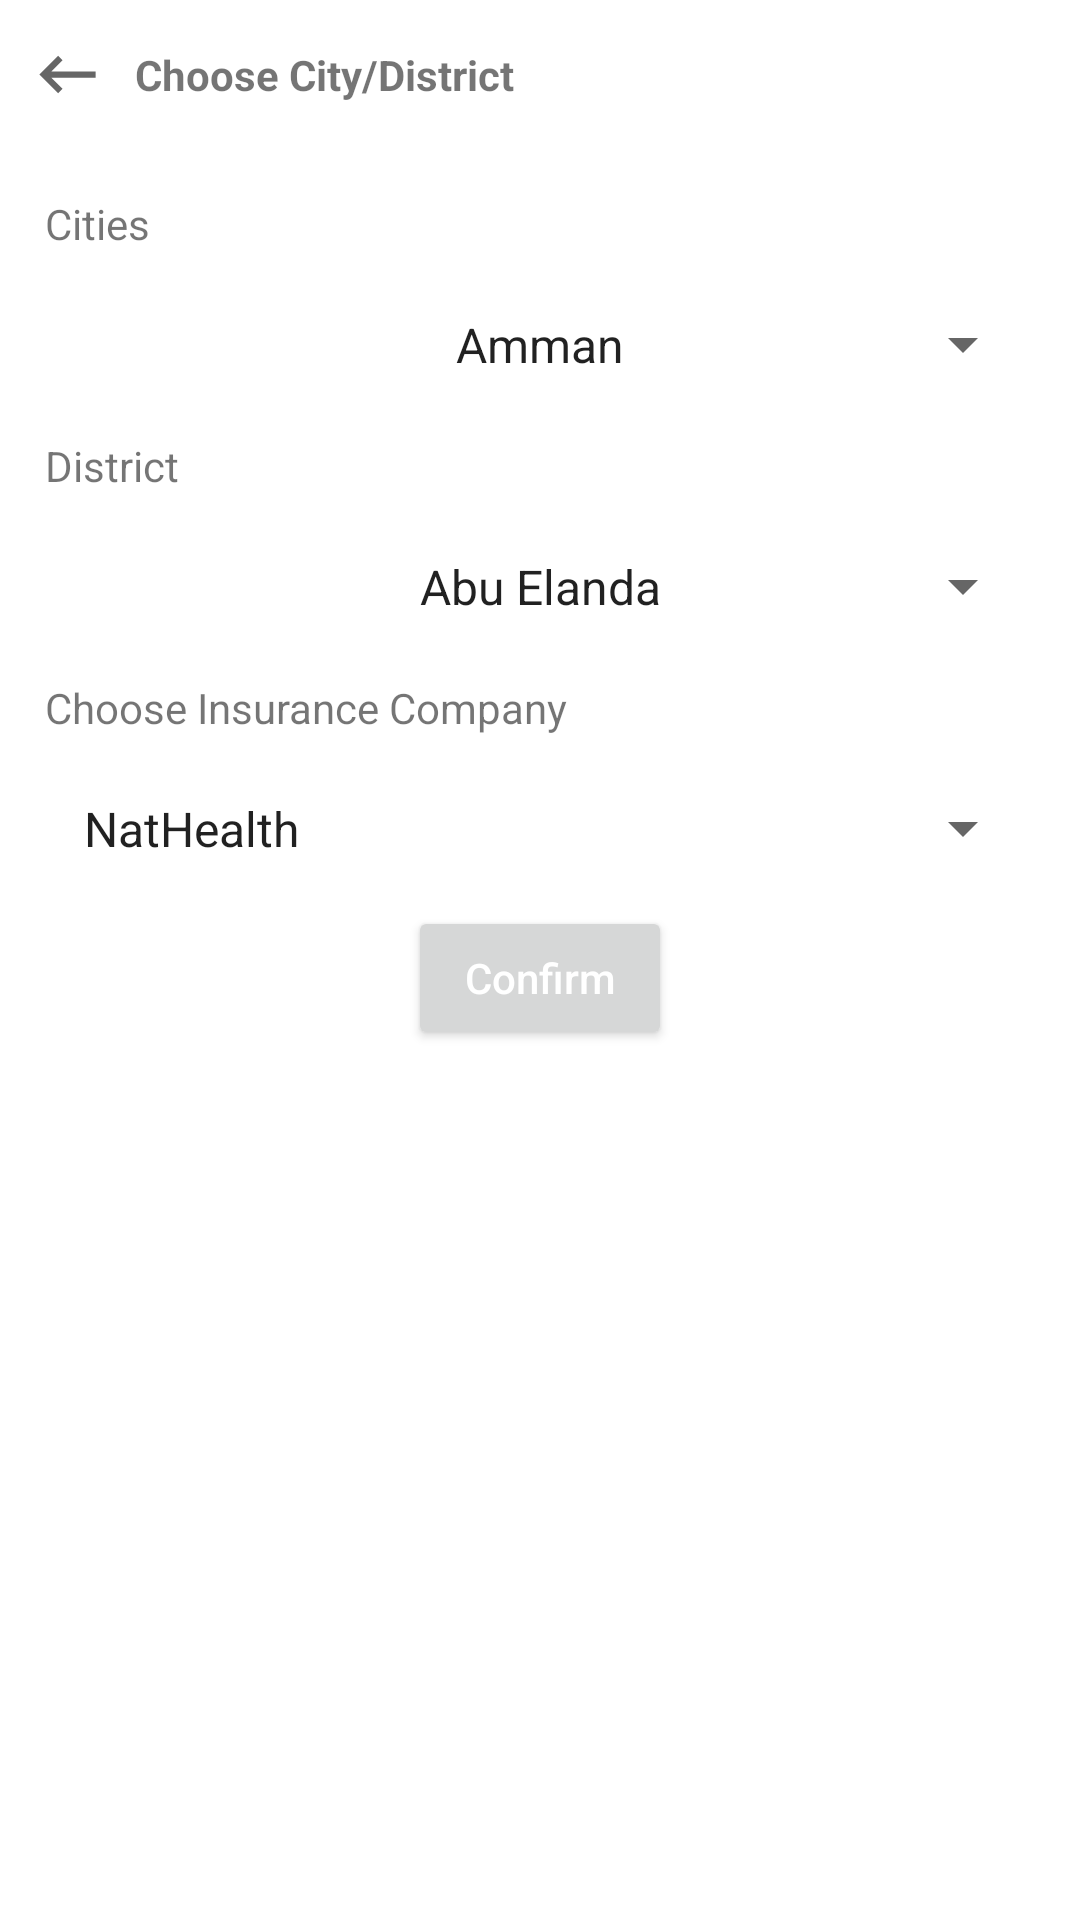

Icon click points for this 1080w x 1920h phone screenshot, format point (x, y):
back: point (67, 74)
